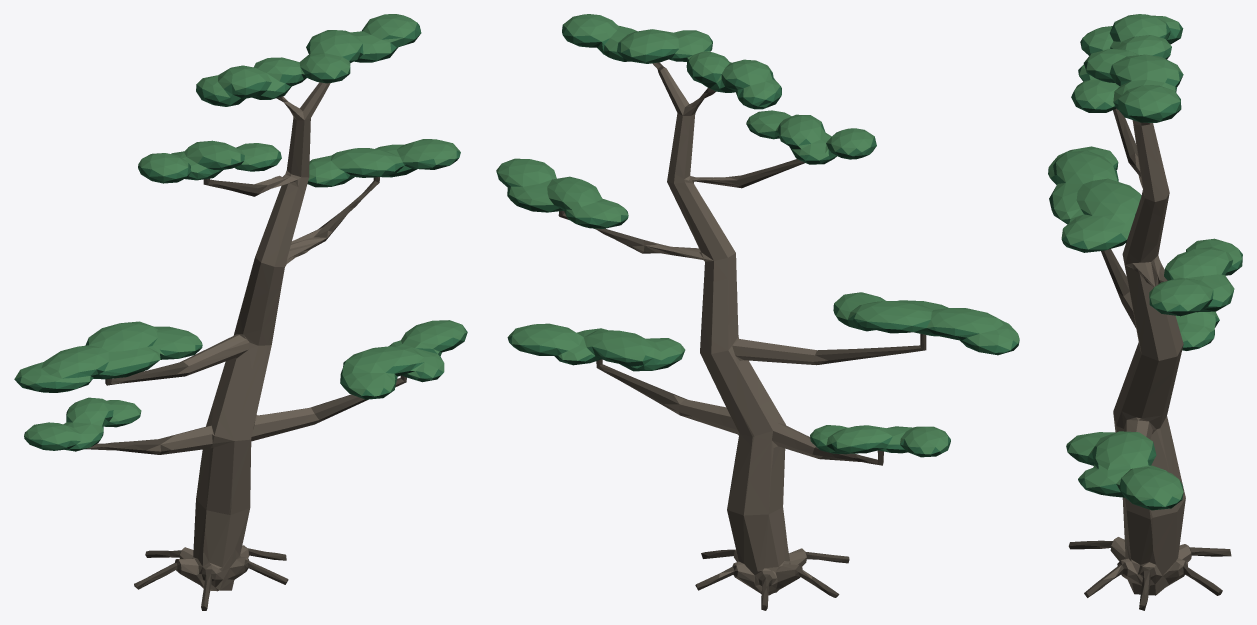
Rendered from ancient-pine-1247-lod0.glb.
The picture shows the model from 3 angles, left to right: view 1: azimuth 30°, elevation 25°; view 2: azimuth 150°, elevation 25°; view 3: azimuth 270°, elevation 25°; orthographic projection. The views are drawn at different scales.
Parts seen in each view (by area): view 1: n12.004, n8.004, n11.004, n9.004, n10.004; view 2: n8.004, n12.004, n11.004, n9.004, n10.004; view 3: n12.004, n8.004, n11.004, n9.004, n10.004.
Part boxes in pixels (x1=…): n12.004: x1=14, y1=14, x2=466, y2=444; n8.004: x1=146, y1=82, x2=331, y2=591; n11.004: x1=14, y1=23, x2=467, y2=449; n9.004: x1=85, y1=96, x2=406, y2=610; n10.004: x1=15, y1=34, x2=464, y2=451; n8.004: x1=632, y1=63, x2=827, y2=595; n12.004: x1=496, y1=14, x2=1019, y2=454; n11.004: x1=496, y1=25, x2=1019, y2=454; n9.004: x1=558, y1=62, x2=926, y2=610; n10.004: x1=499, y1=36, x2=1018, y2=457; n12.004: x1=1048, y1=14, x2=1241, y2=506; n8.004: x1=1100, y1=120, x2=1200, y2=595; n11.004: x1=1048, y1=22, x2=1242, y2=506; n9.004: x1=1068, y1=108, x2=1231, y2=610; n10.004: x1=1051, y1=32, x2=1240, y2=510.
Bounding box in the file's own units: 5.14 × 5.43 × 1.61.
